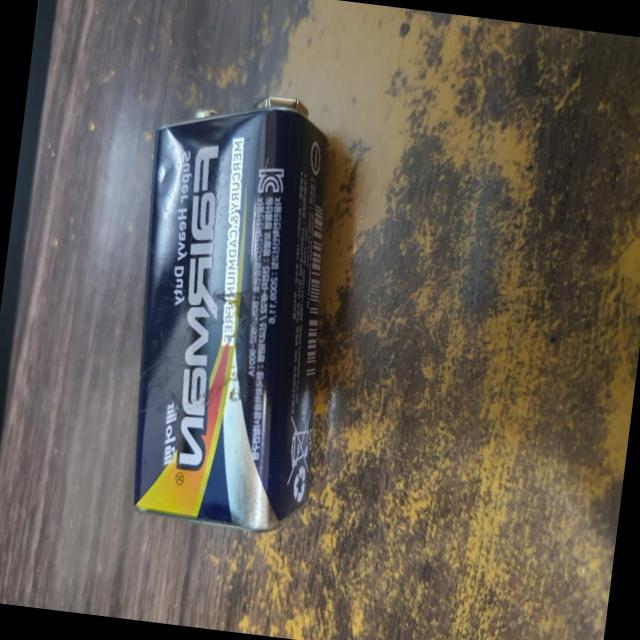battery-etc-etc: (100, 73, 360, 544)
